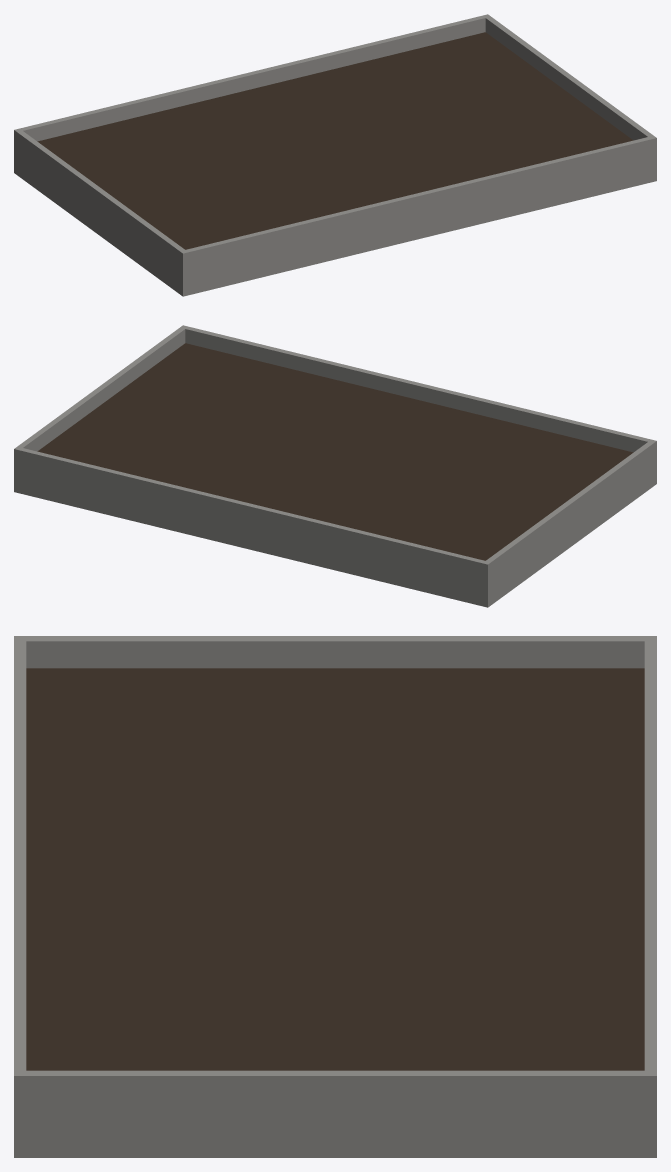
The model's file is floreira_1.glb.
The picture shows the model from 3 angles, top to bottom: view 1: azimuth 30°, elevation 25°; view 2: azimuth 150°, elevation 25°; view 3: azimuth 270°, elevation 25°; orthographic projection. The views are drawn at different scales.
Visible parts, largest first — view 1: floreira_1; view 2: floreira_1; view 3: floreira_1.
Boxes of the visible parts, box(x1,y1,x2,y2) form: floreira_1: box(14, 14, 656, 296); floreira_1: box(14, 325, 656, 607); floreira_1: box(14, 636, 656, 1157).
Bounding box in the file's own units: 3.11 × 0.27 × 1.92.
